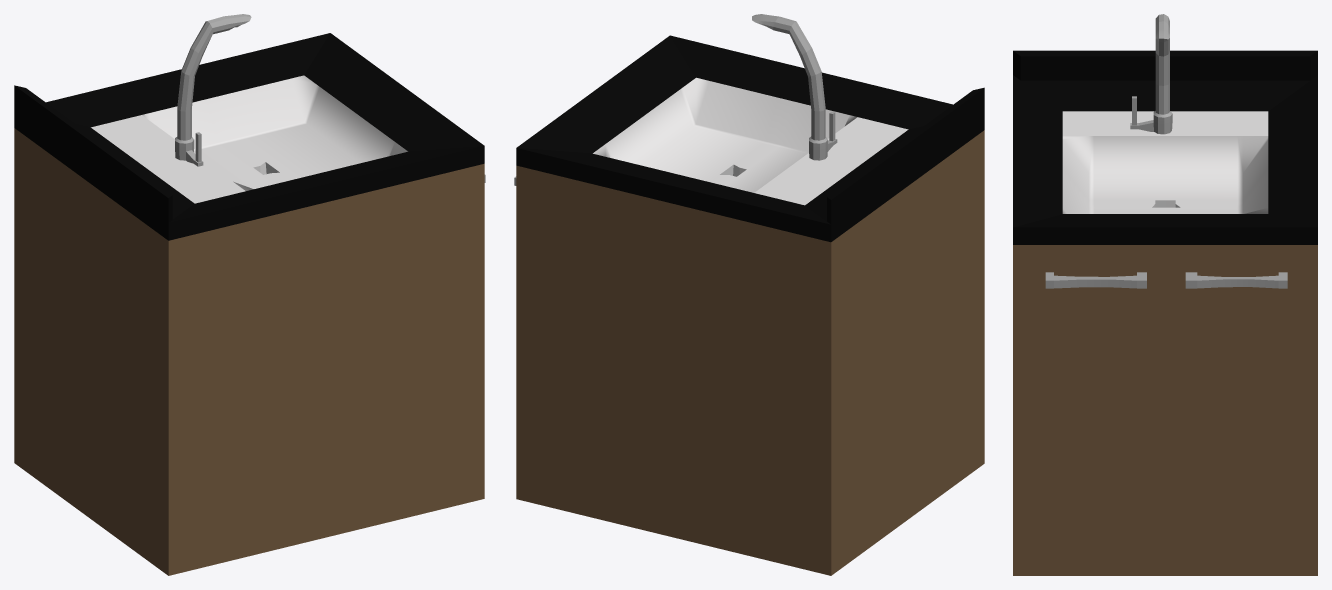
The model's file is SinkUV.fbx.
3 renders of one model, left to right at view 1: azimuth 30°, elevation 25°; view 2: azimuth 150°, elevation 25°; view 3: azimuth 270°, elevation 25°, orthographic.
Parts seen in each view (by area): view 1: polySurface1; view 2: polySurface1; view 3: polySurface1.
Part boxes in pixels (x1,y1,x2,y2): polySurface1: (14, 14, 485, 575); polySurface1: (514, 14, 984, 575); polySurface1: (1013, 14, 1317, 575).
Size of the model in its own units: 1.14 by 1.55 by 0.9169.
